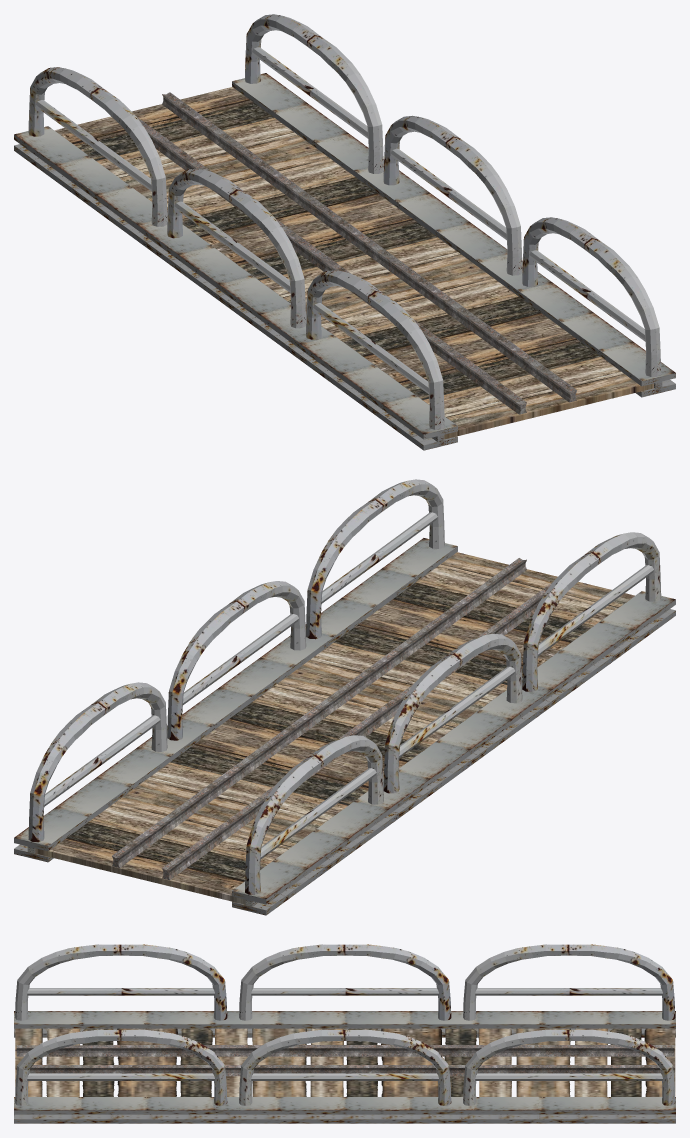
Rendered from Bridge.fbx.
3 views of the same model, one above another, from view 1: azimuth 30°, elevation 25°; view 2: azimuth 150°, elevation 25°; view 3: azimuth 270°, elevation 25° (orthographic). The views are drawn at different scales.
Parts seen in each view (by area): view 1: BridgePlank, BridgeBarrier, Beam, Rail; view 2: BridgePlank, BridgeBarrier, Beam, Rail; view 3: BridgeBarrier, Beam, BridgePlank, Rail.
Boxes of the visible parts, x1,y1,x2,y2 form: BridgePlank: (54,87,653,439); BridgeBarrier: (28,14,661,429); Beam: (14,73,675,450); Rail: (136,92,576,414); BridgePlank: (35,552,634,904); BridgeBarrier: (28,479,661,894); Beam: (14,538,675,915); Rail: (112,558,553,880); BridgeBarrier: (15,944,675,1105); Beam: (14,1011,675,1123); BridgePlank: (15,1028,675,1096); Rail: (16,1045,674,1076).
Bounding box in the file's own units: 367 × 149 × 1034.
Materials: 4 (4 with a texture image).
